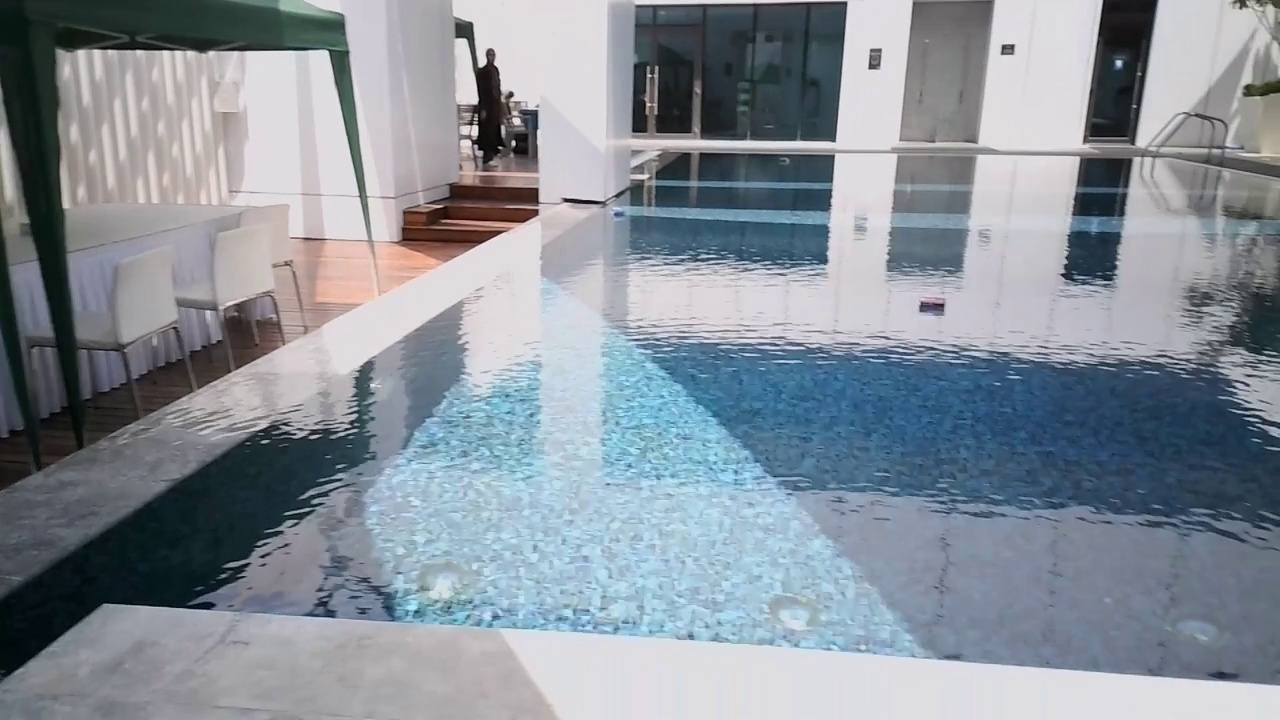debris: (914, 290, 954, 319), (607, 205, 627, 222), (777, 154, 792, 166)
